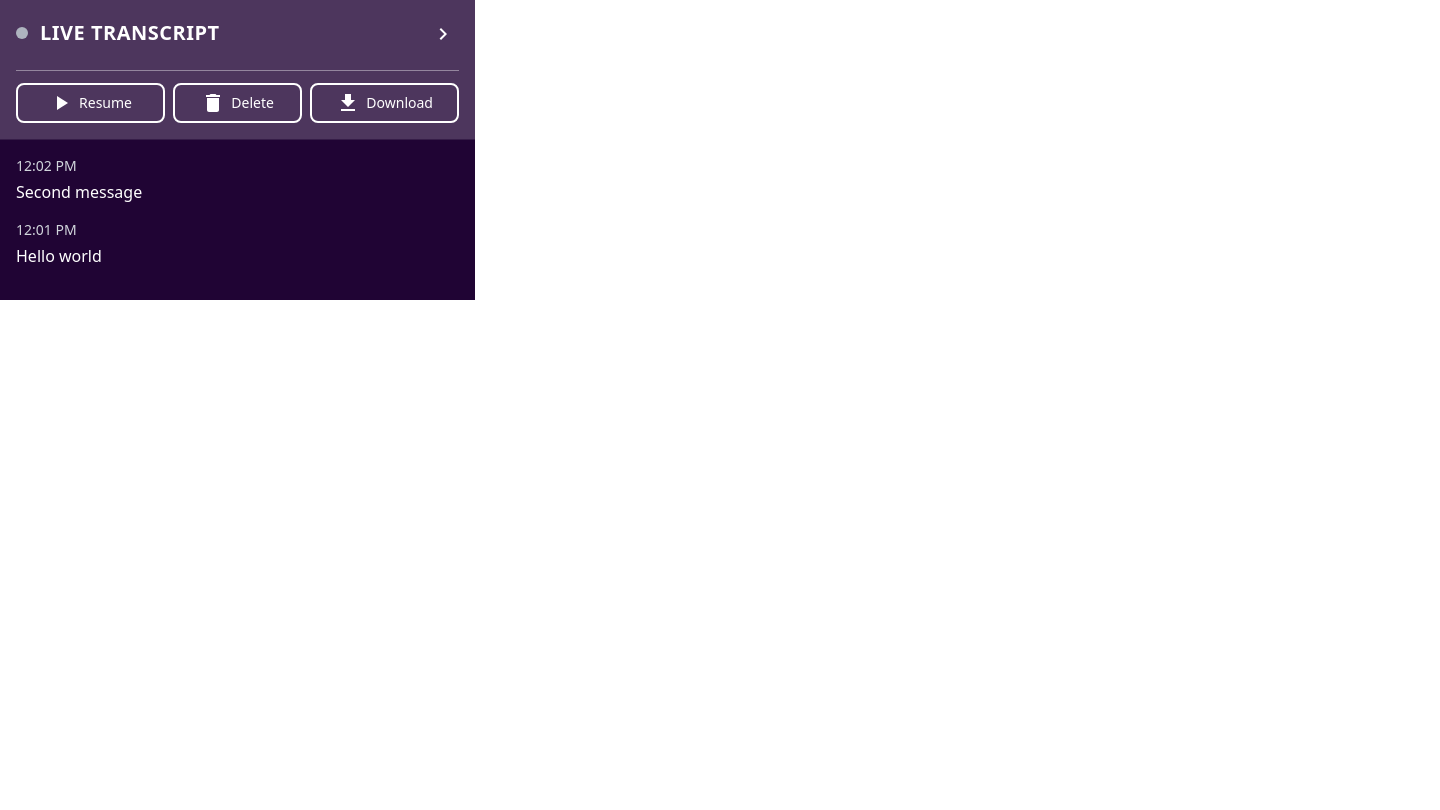
Test: Transcript › Transcript Controls › shows error when delete API fails
Step 1. Click the button with aria-label "Delete transcript" → (238, 103), box [173,83,302,123]
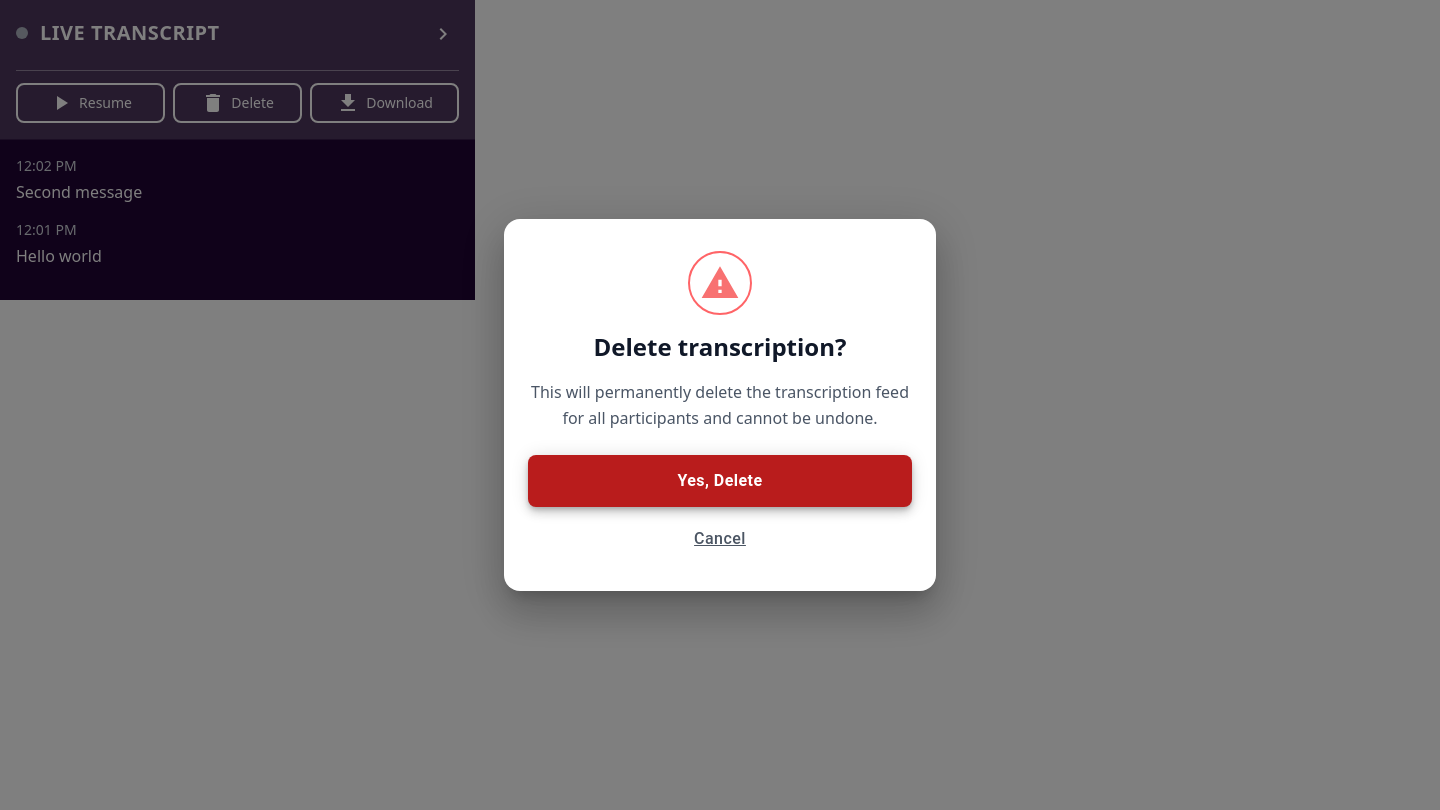
Expected: the button "Yes, Delete" is shown
Step 2. Click the button "Yes, Delete" → (720, 481), box [528,455,912,507]
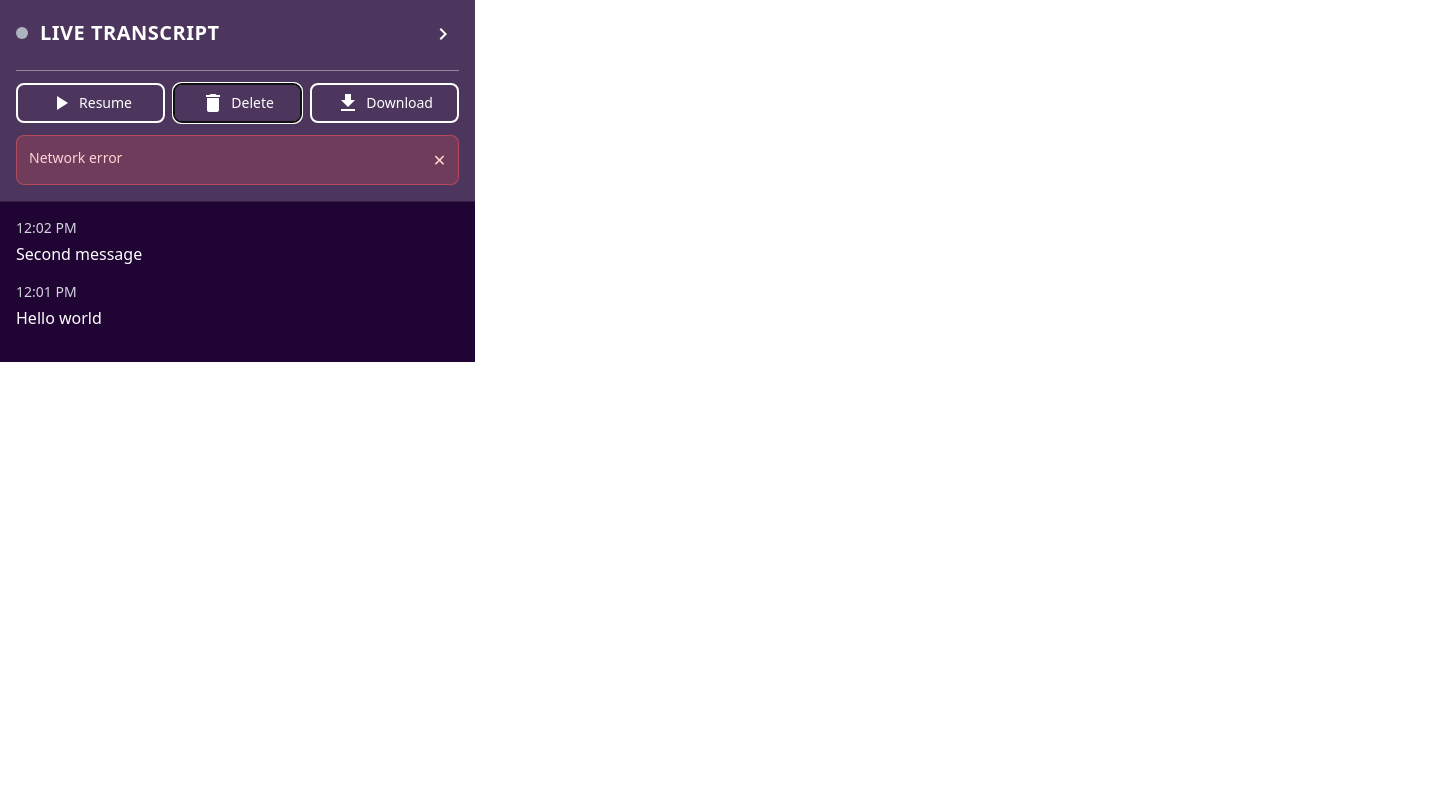
Expected: the text "Network error" is shown, [29,148,122,168]
